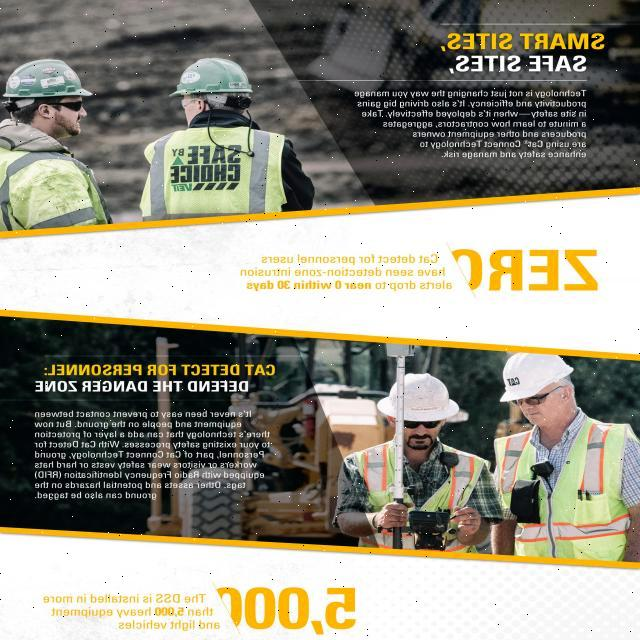Hard_hat: (375, 373, 462, 429), (491, 352, 578, 402), (0, 58, 95, 103), (167, 55, 255, 102)
Vest: (492, 422, 624, 571), (144, 128, 282, 223)
